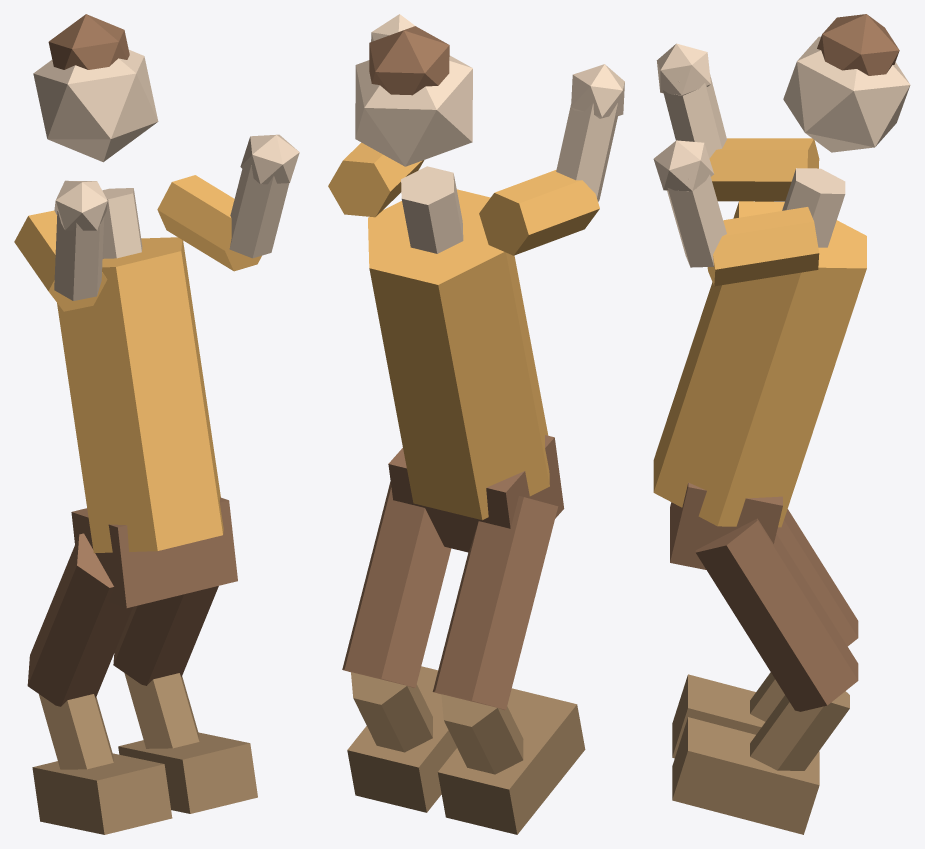
The model's file is pose_dodge_roll_09.glb.
3 renders of one model, left to right at view 1: azimuth 30°, elevation 25°; view 2: azimuth 150°, elevation 25°; view 3: azimuth 270°, elevation 25°, orthographic. The views are drawn at different scales.
Visible parts, largest first — view 1: pose; view 2: pose; view 3: pose.
Part boxes in pixels (left/top/right/bottom): pose: left=14, top=14, right=299, bottom=834; pose: left=328, top=14, right=624, bottom=834; pose: left=653, top=14, right=910, bottom=834.
Bounding box in the file's own units: 0.4876 × 1.51 × 0.4503.
